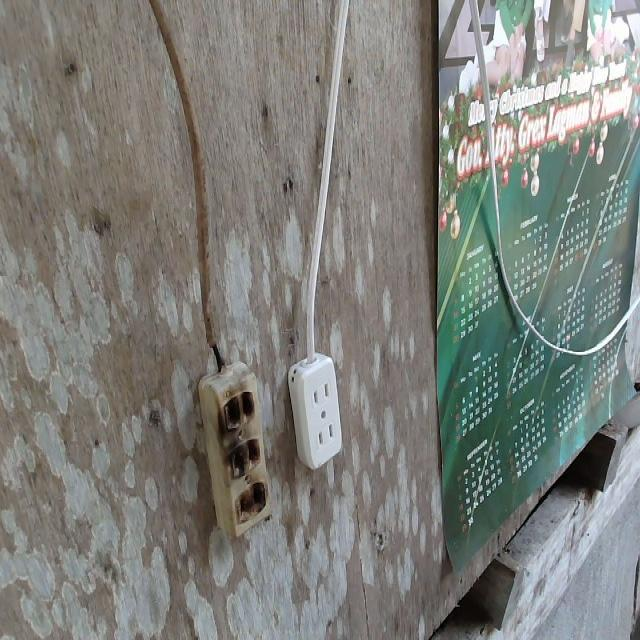-: (216, 388, 265, 525)
